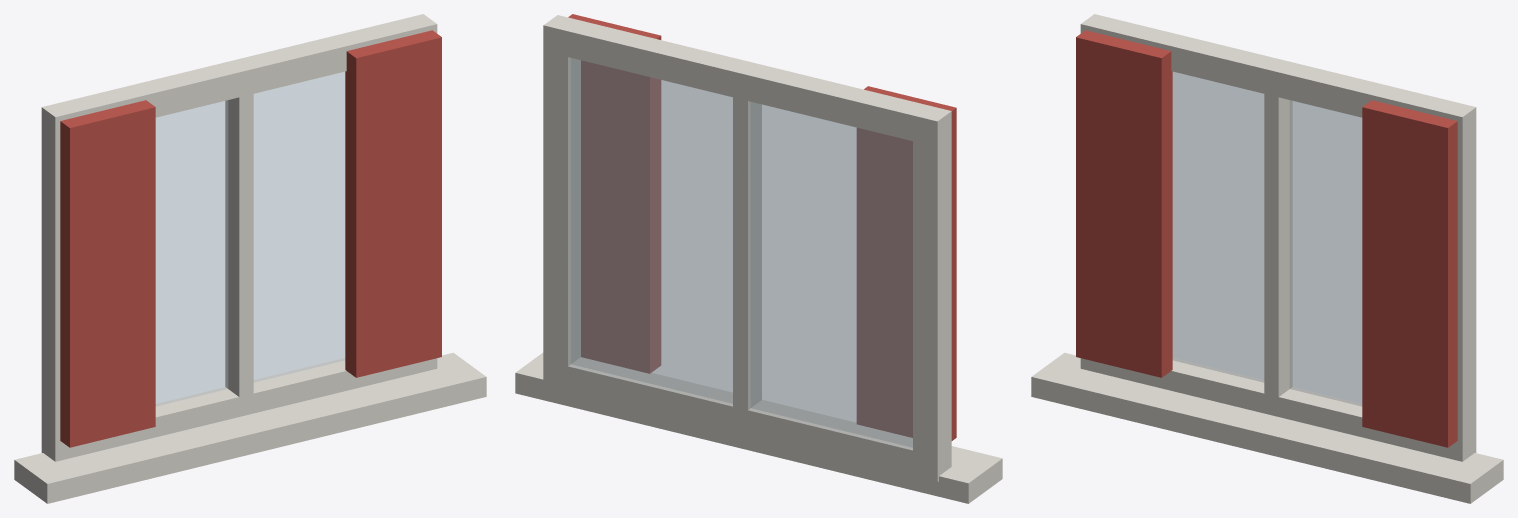
The model's file is wall_window_deco.glb.
3 renders of one model, left to right at view 1: azimuth 30°, elevation 25°; view 2: azimuth 150°, elevation 25°; view 3: azimuth 330°, elevation 25°, orthographic. The views are drawn at different scales.
Parts seen in each view (by area): view 1: wall_window_deco; view 2: wall_window_deco; view 3: wall_window_deco.
Boxes of the visible parts, x1=… form: wall_window_deco: x1=14, y1=14, x2=486, y2=503; wall_window_deco: x1=515, y1=14, x2=1002, y2=503; wall_window_deco: x1=1031, y1=14, x2=1503, y2=503.
Size of the model in its own units: 0.92 by 0.73 by 0.125.
